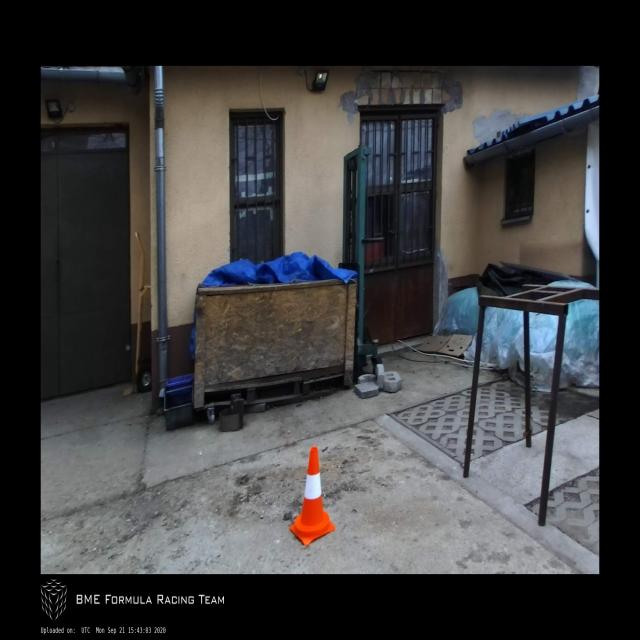orange_cone: (289, 447, 335, 547)
